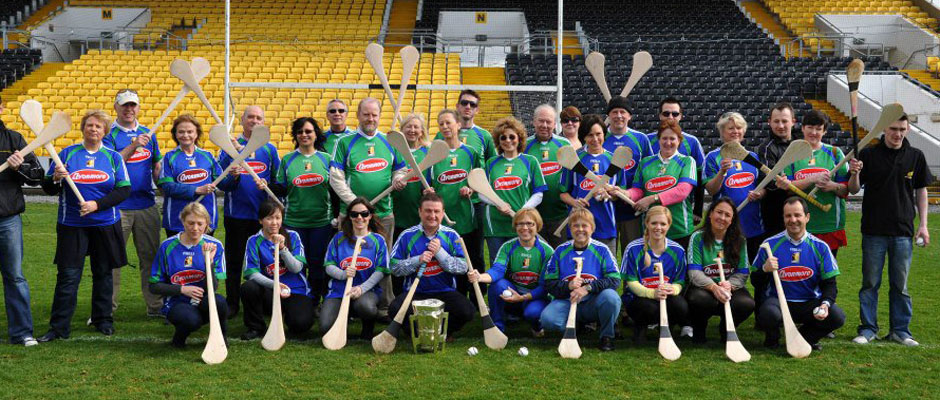hurley: (803, 100, 908, 192), (548, 136, 638, 227), (724, 138, 833, 213), (369, 246, 434, 356), (453, 232, 512, 352), (761, 234, 816, 361), (557, 143, 650, 212), (320, 237, 368, 350), (198, 234, 231, 366), (719, 258, 753, 364), (555, 255, 588, 361), (257, 232, 284, 352), (846, 52, 868, 168), (653, 265, 680, 358), (465, 167, 518, 214)
